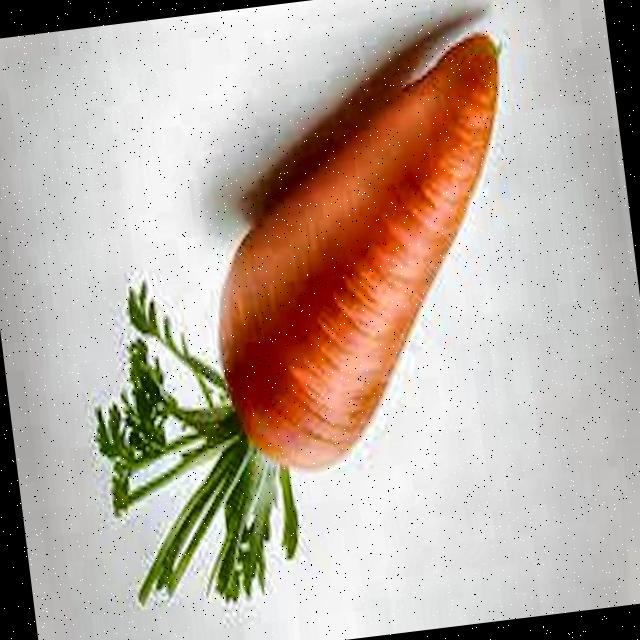carrot: (94, 35, 497, 605)
